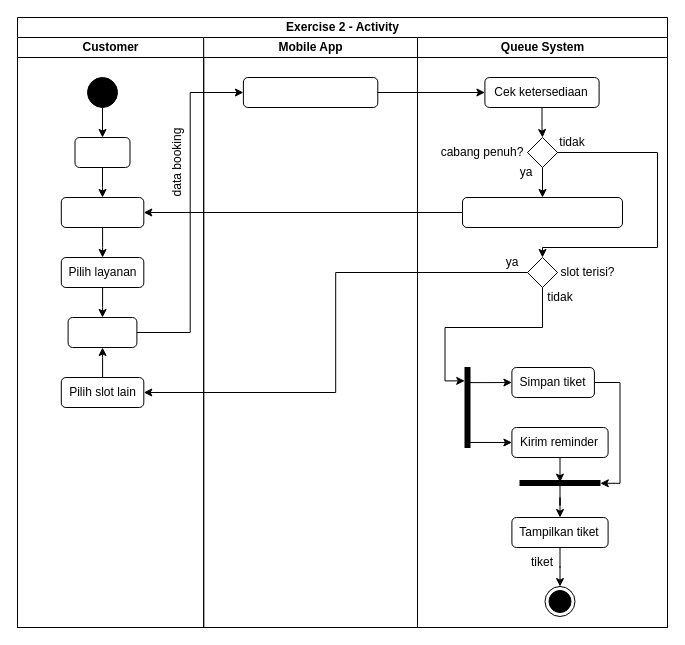
Image size: 685x645. Some labels were removed from this diagram. Each missing label, with the centre of its shape:
Kirim request booking: the point at 310,92
Log In: the point at 102,152
Pilih cabang: the point at 102,212
Pilih slot: the point at 102,332
Sarankan cabang terdekat: the point at 542,212
